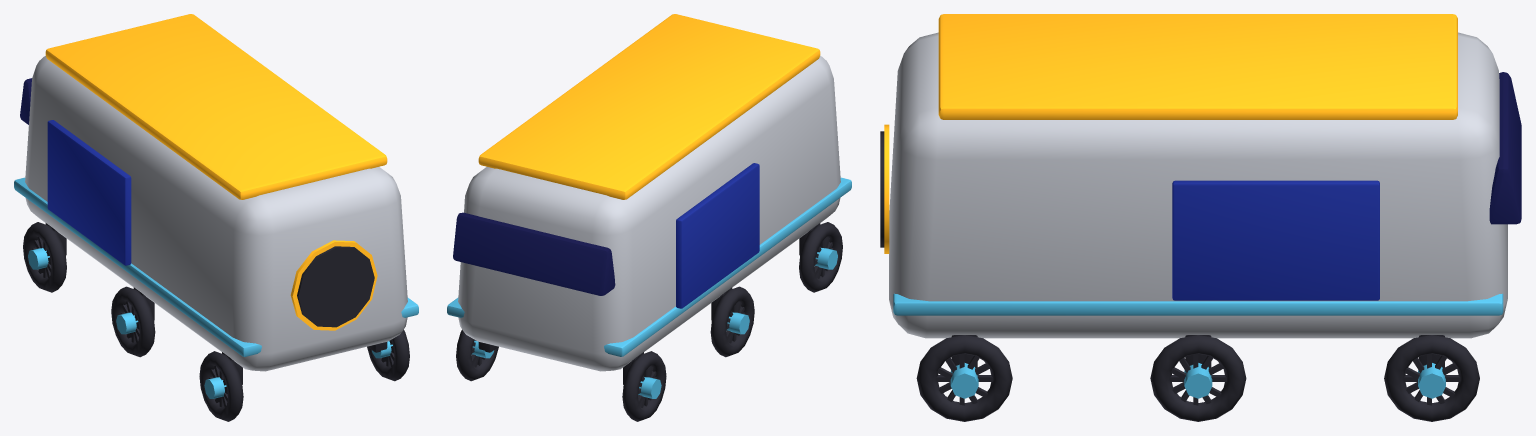
The model's file is moon_van.glb.
3 views of the same model, side by side, from view 1: azimuth 30°, elevation 25°; view 2: azimuth 150°, elevation 25°; view 3: azimuth 270°, elevation 25° (orthographic). The views are drawn at different scales.
Visible parts, largest first — view 1: Body, WheelMLMesh, WheelFLMesh, WheelRLMesh, WheelRRMesh; view 2: Body, WheelMLMesh, WheelFLMesh, WheelRLMesh, WheelFRMesh; view 3: Body, WheelMRMesh, WheelRRMesh, WheelFRMesh.
Part boxes in pixels (bbox=[...]): Body: bbox=[14, 14, 418, 384]; WheelMLMesh: bbox=[111, 286, 155, 357]; WheelFLMesh: bbox=[23, 222, 66, 292]; WheelRLMesh: bbox=[199, 351, 243, 421]; WheelRRMesh: bbox=[367, 330, 409, 381]; Body: bbox=[447, 14, 851, 384]; WheelMLMesh: bbox=[710, 286, 754, 357]; WheelFLMesh: bbox=[622, 351, 666, 421]; WheelRLMesh: bbox=[799, 222, 842, 292]; WheelFRMesh: bbox=[456, 330, 498, 381]; Body: bbox=[880, 14, 1521, 371]; WheelMRMesh: bbox=[1150, 335, 1246, 421]; WheelRRMesh: bbox=[916, 335, 1012, 421]; WheelFRMesh: bbox=[1384, 335, 1479, 421].
Size of the model in its own units: 2.38 by 2.62 by 4.94.
